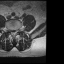CCS_stenosis: (12, 29, 14, 37)
LFS_normal: (16, 27, 18, 34)
LLS_normal: (14, 28, 16, 36)
RFS_normal: (8, 27, 10, 34)
RLS_normal: (10, 28, 12, 37)
